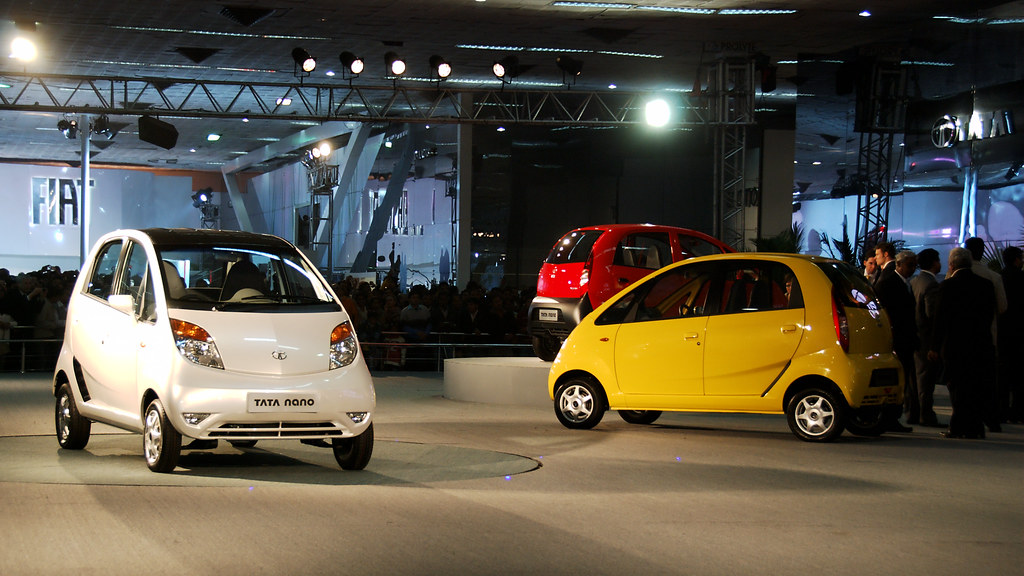Nano: (47, 227, 376, 475), (544, 251, 909, 455)
